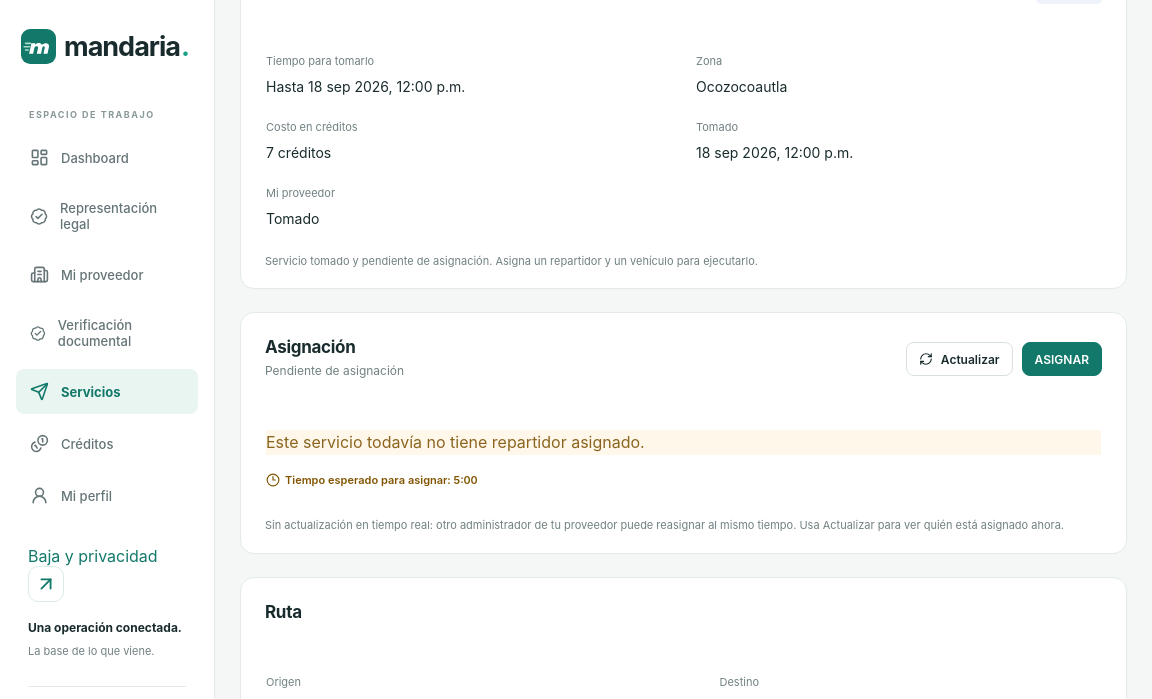
pending assignment › offers an empty state, not an automatic release, without drivers
(page scrolled)
Click the button "ASIGNAR": coordinates (1062, 359) [1022,342,1102,376]
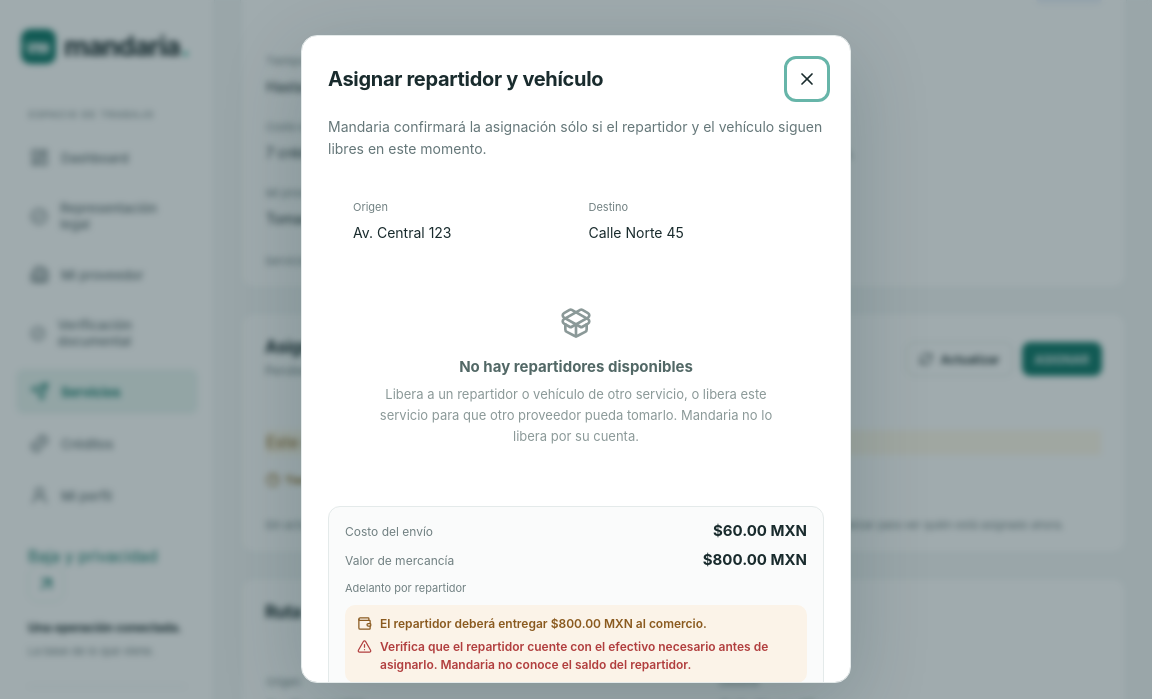
Now the dialog is shown, box [301,35,851,683]
Now the heading "No hay repartidores disponibles" is shown, box [459,357,693,376]
Now the text "Mandaria no lo libera por su cuenta" is shown, box [380,386,772,444]
